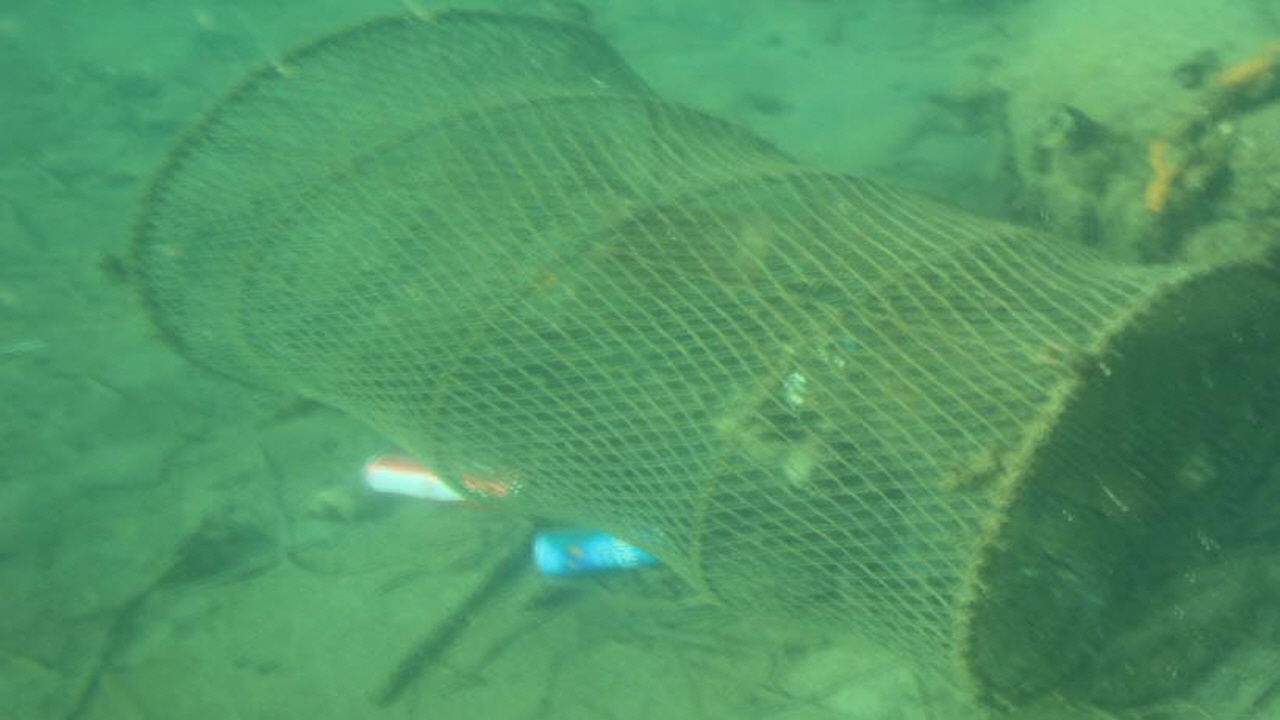spring fish trap: (125, 4, 1280, 720)
